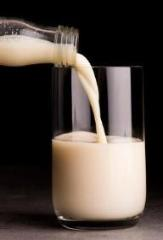glass: (48, 65, 148, 231)
